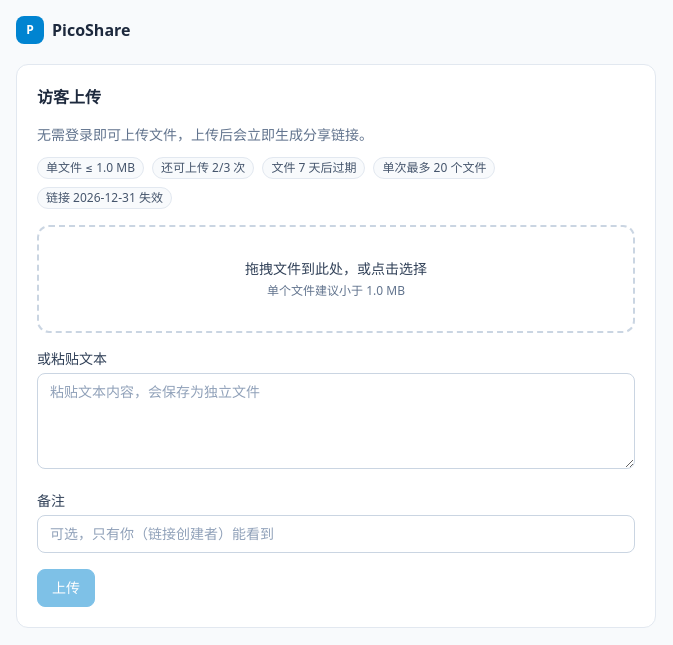
GuestUpload › decrements the remaining quota locally after an upload
Expected: the text "还可上传 2/3 次" is shown, [152,157,254,179]
Type "hello" into the text box labelled "或粘贴文本". click: (336, 421)
box: [37,373,635,469]
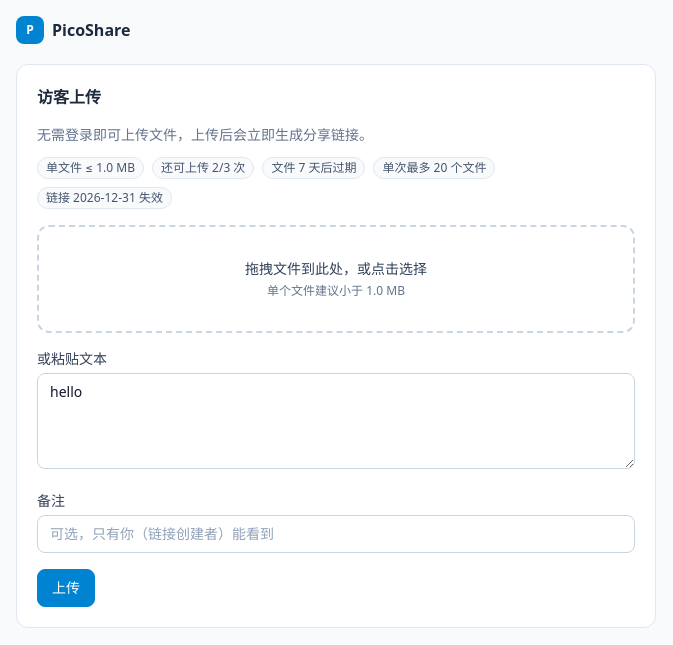
Click the button "上传". click: click(66, 588)
box: [37,569,95,607]
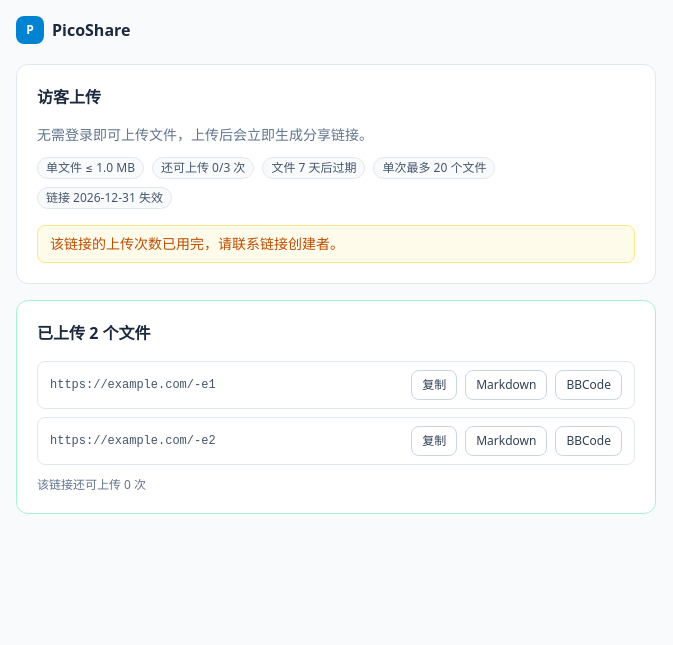
Expected: the heading "已上传 2 个文件" is shown, [37,322,150,344]
Expected: the text "该链接还可上传 0 次" is shown, [37,476,146,493]
Expected: the text "还可上传 0/3 次" is shown, [152,157,254,179]
